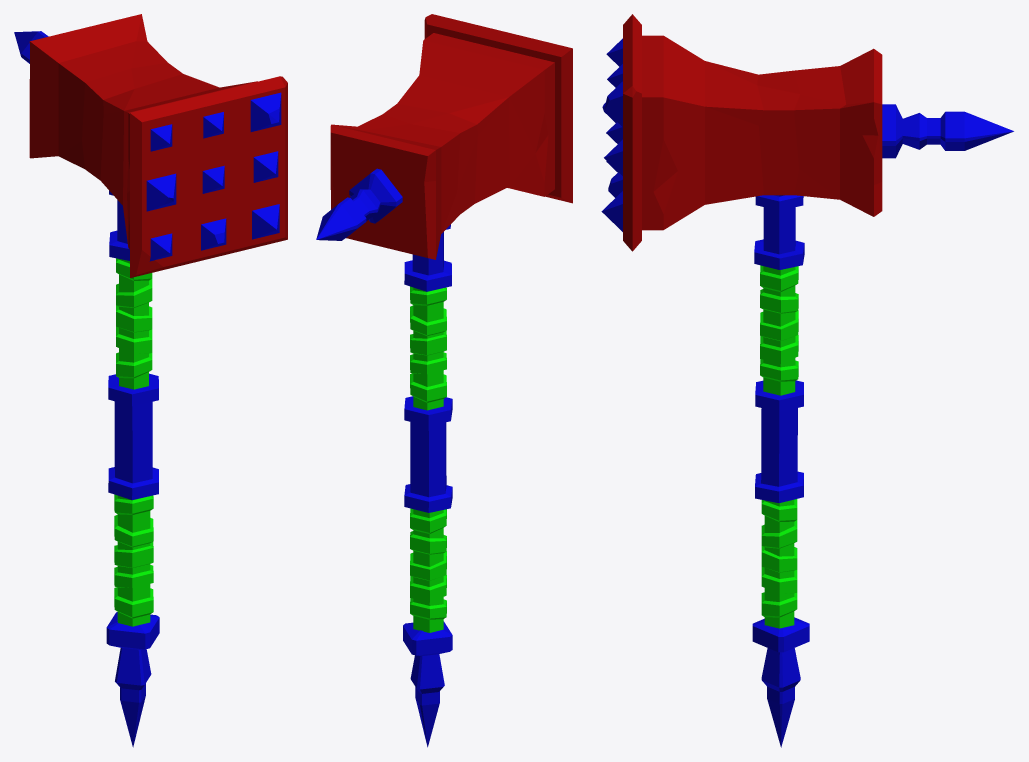
The model's file is Greathammer_Rare_Desolate.fbx.
3 renders of one model, left to right at view 1: azimuth 30°, elevation 25°; view 2: azimuth 150°, elevation 25°; view 3: azimuth 270°, elevation 25°, orthographic. The views are drawn at different scales.
Parts seen in each view (by area): view 1: SM_Wep_Hammer_06; view 2: SM_Wep_Hammer_06; view 3: SM_Wep_Hammer_06.
Part boxes in pixels (x1=…): SM_Wep_Hammer_06: x1=14, y1=14, x2=287, y2=747; SM_Wep_Hammer_06: x1=316, y1=14, x2=572, y2=747; SM_Wep_Hammer_06: x1=601, y1=14, x2=1013, y2=747.
Size of the model in its own units: 29 by 124 by 66.93.
